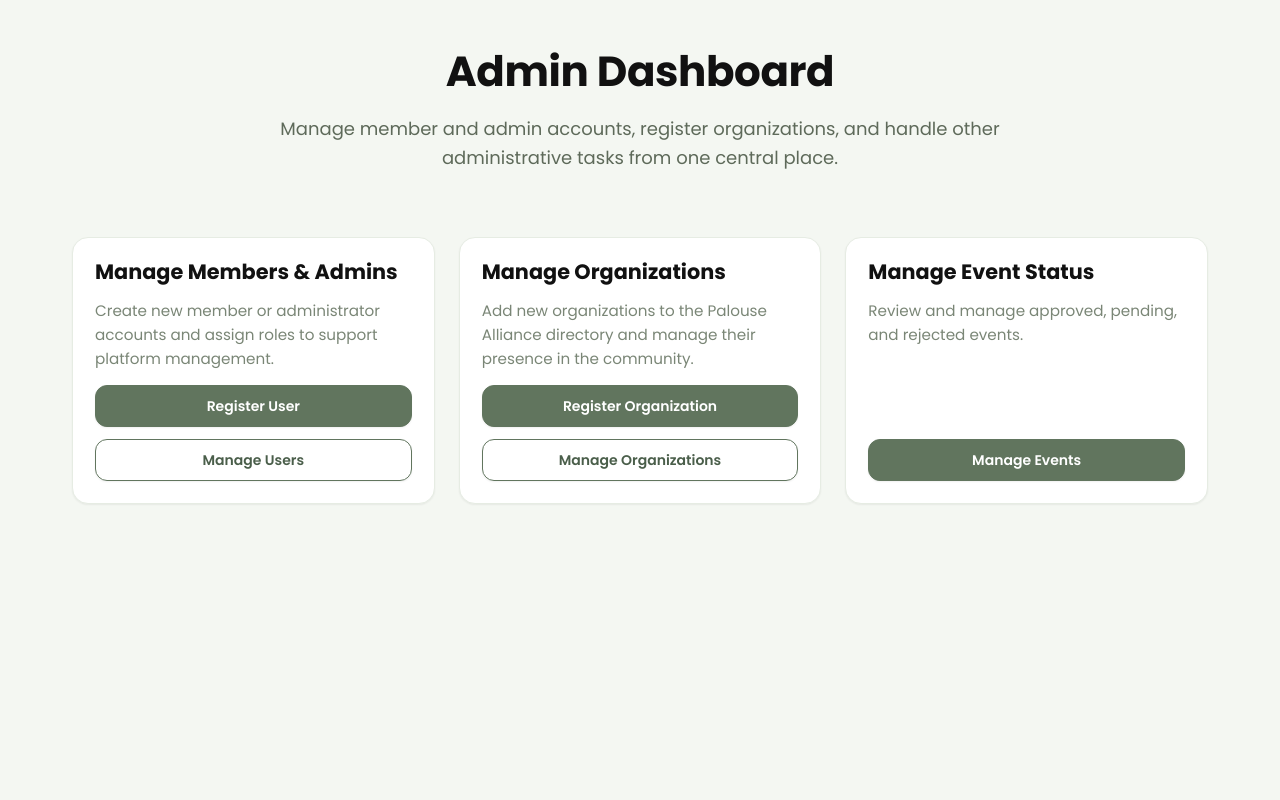
Admin › opens register user popup when the button is clicked
The image size is (1280, 800).
Click the button "Register User": (253, 406) [95,386,412,428]
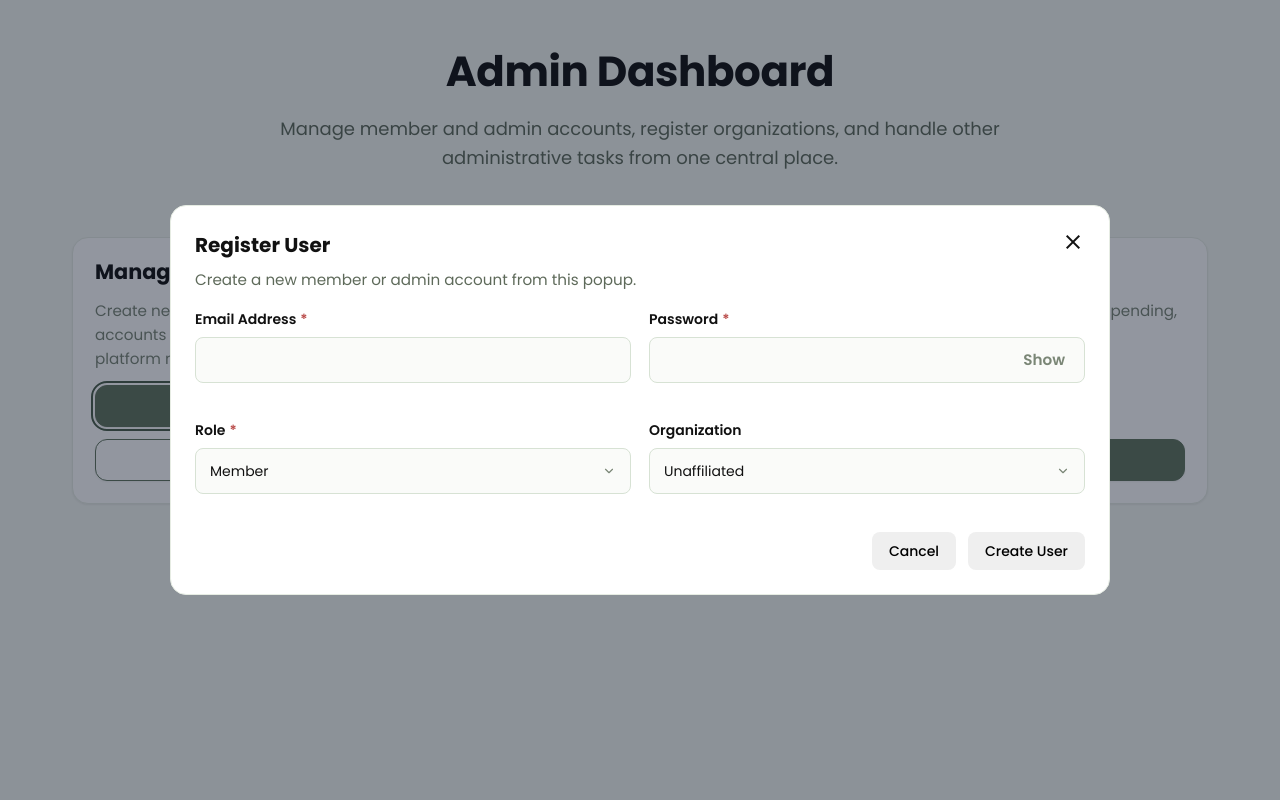
expect the heading "Register User" is shown: met, box [195,231,330,259]
